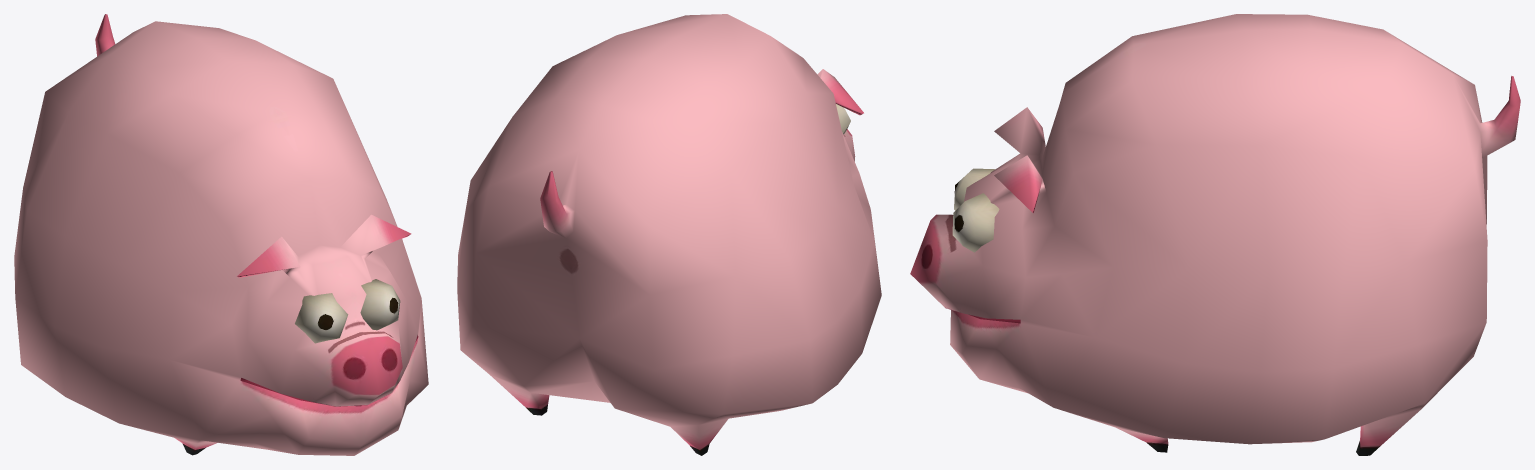
File: farm_pig.glb
3 renders of one model, left to right at view 1: azimuth 30°, elevation 25°; view 2: azimuth 150°, elevation 25°; view 3: azimuth 270°, elevation 25°, orthographic. The views are drawn at different scales.
Visible parts, largest first — view 1: farm:pig; view 2: farm:pig; view 3: farm:pig.
Part boxes in pixels (x1,y1,x2,y2): farm:pig: (14, 14, 428, 455); farm:pig: (457, 14, 881, 455); farm:pig: (910, 14, 1520, 455).
Bounding box in the file's own units: 1.43 × 1.38 × 1.99.
Materials: 1 (1 with a texture image).
